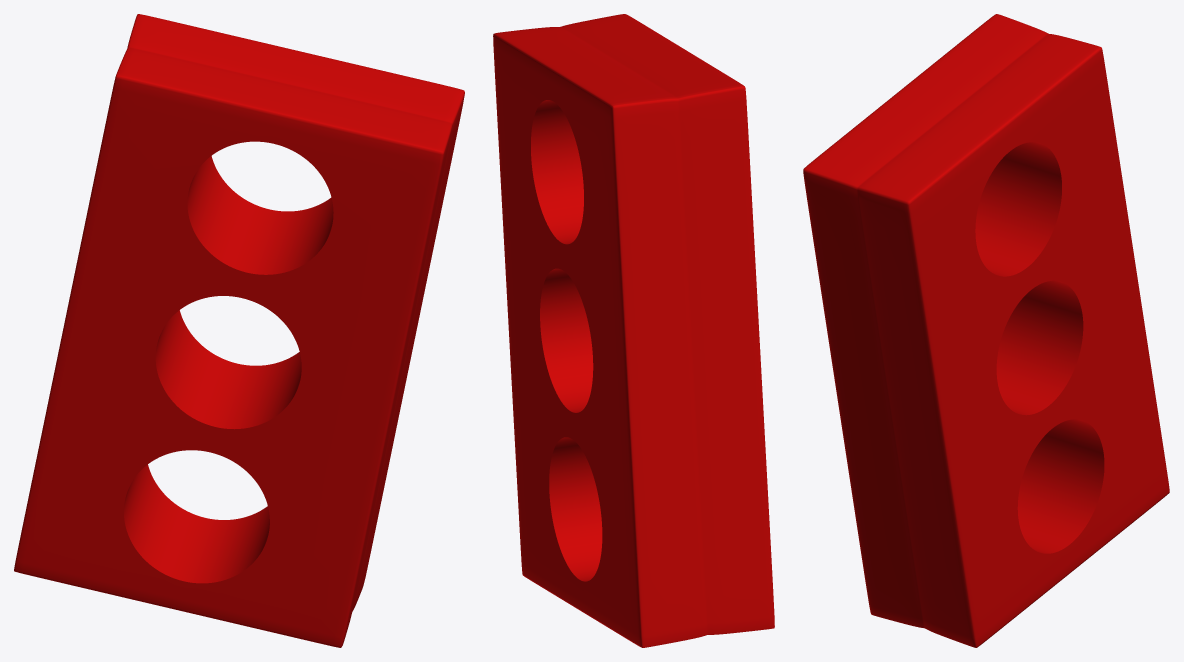
3 renders of one model, left to right at view 1: azimuth 30°, elevation 25°; view 2: azimuth 150°, elevation 25°; view 3: azimuth 270°, elevation 25°, orthographic. The views are drawn at different scales.
Parts seen in each view (by area): view 1: 371; view 2: 371; view 3: 371.
Boxes of the visible parts, x1,y1,x2,y2 form: 371: (14, 14, 464, 647); 371: (493, 14, 774, 647); 371: (803, 14, 1169, 647).
Size of the model in its own units: 30.41 by 27.94 by 44.6.
